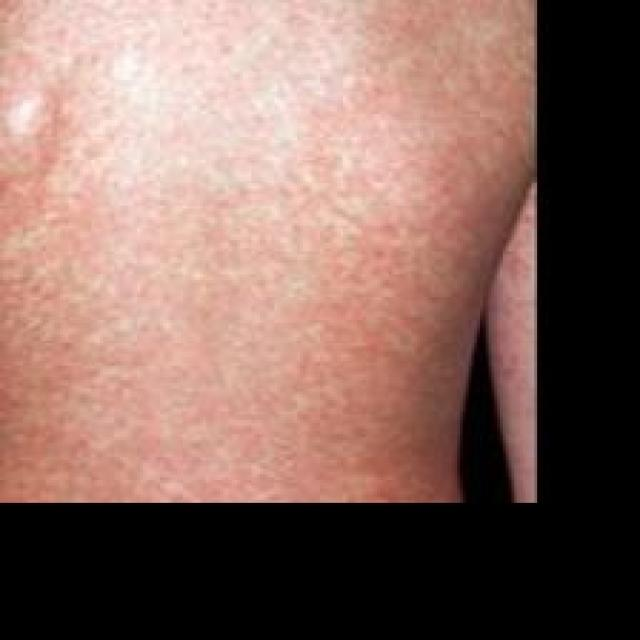others: (0, 0, 537, 497)
